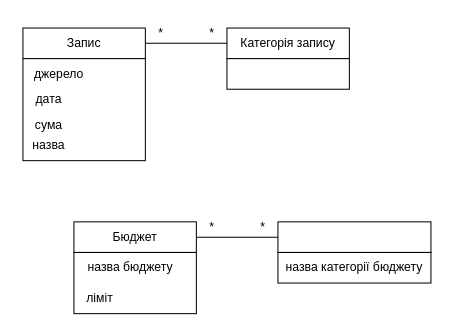
Some shapes in this 449 by 332 pixel diagram are drawn without their labels. Here are the shapes that lost their labels. From the top down, the centre of each, then its label:
At [287,73]: "назва категорії запису".
At [354,236]: "Категорія бюджету".
